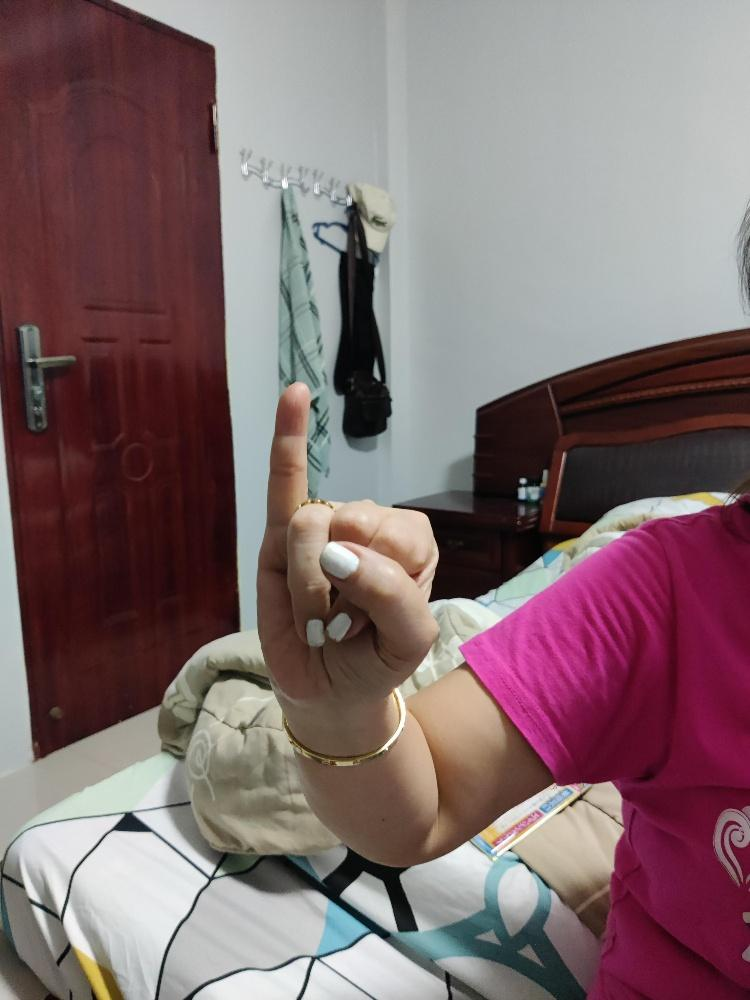i: (254, 379, 441, 709)
